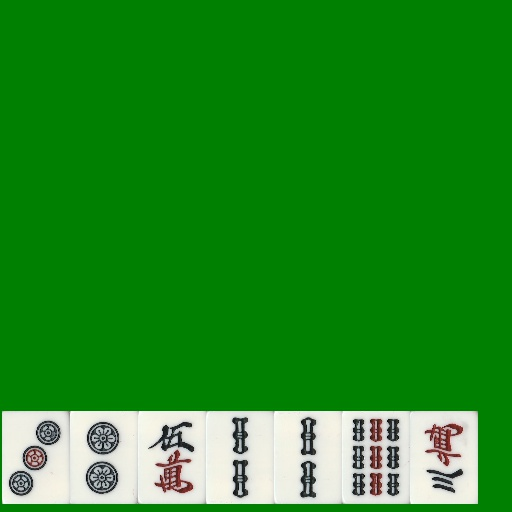2p: (70, 411, 138, 504)
2s: (206, 411, 274, 504), (274, 411, 342, 504)
3m: (410, 411, 478, 504)
3p: (2, 411, 70, 504)
5m: (138, 411, 206, 504)
9s: (342, 411, 410, 504)
